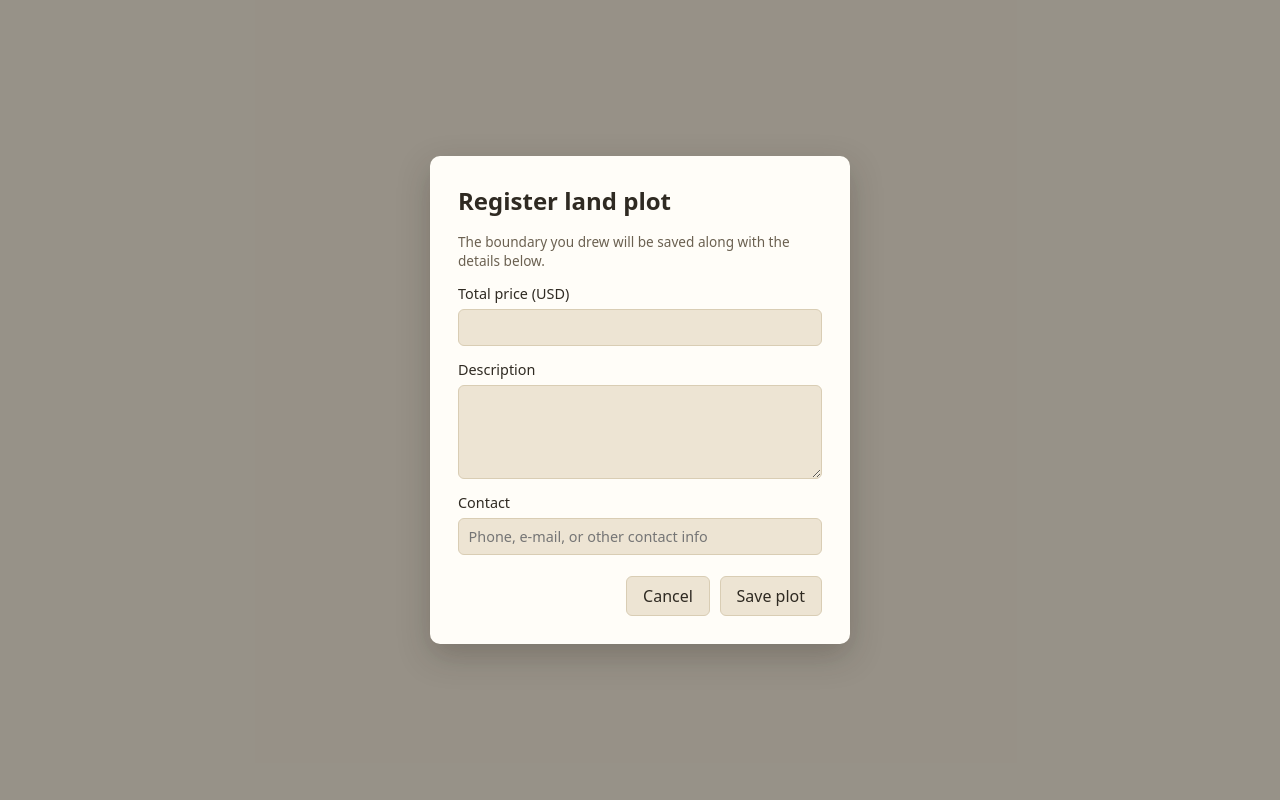
LandPlotForm › rejects a contact that is neither an email nor a phone number
In the number field labelled "Total price (USD)": (640, 327) [458,309,822,346], type "1000"
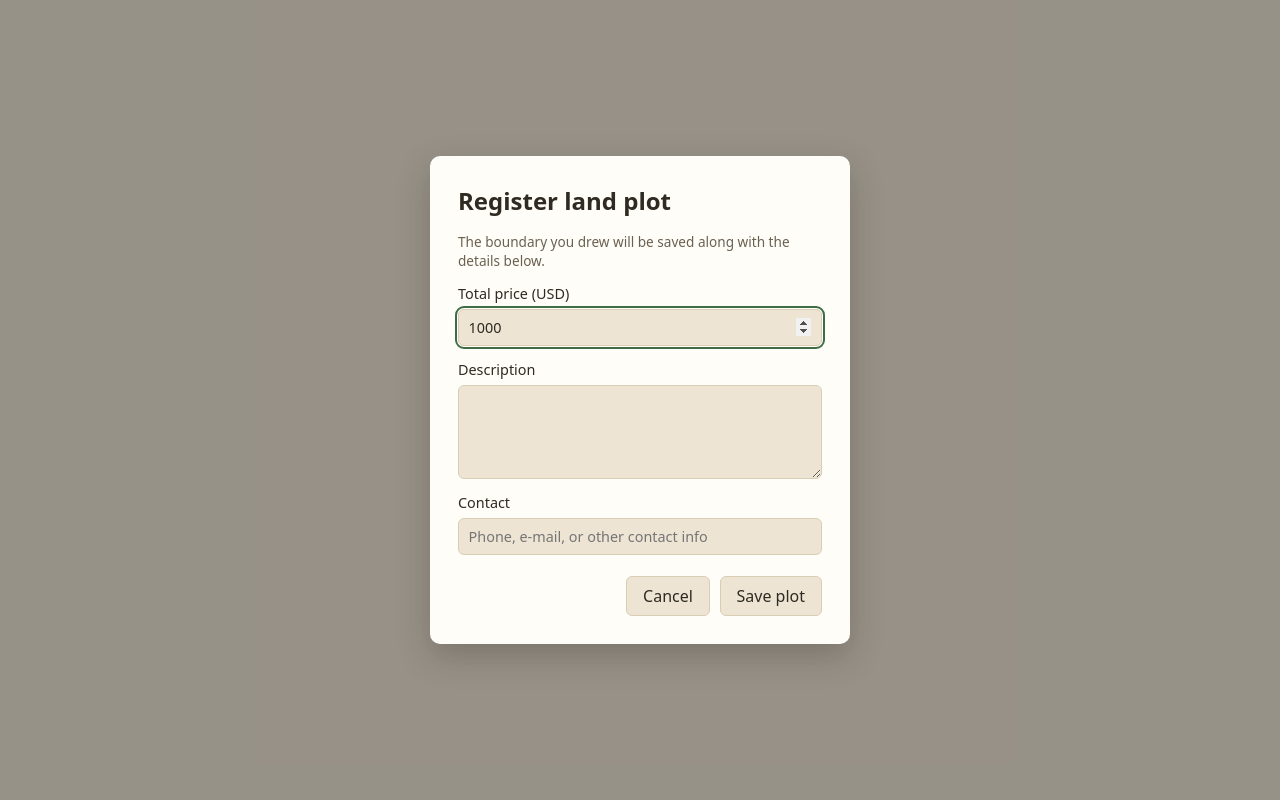
In the text box labelled "Description": (640, 432) [458,385,822,479], type "A perfectly nice plot"
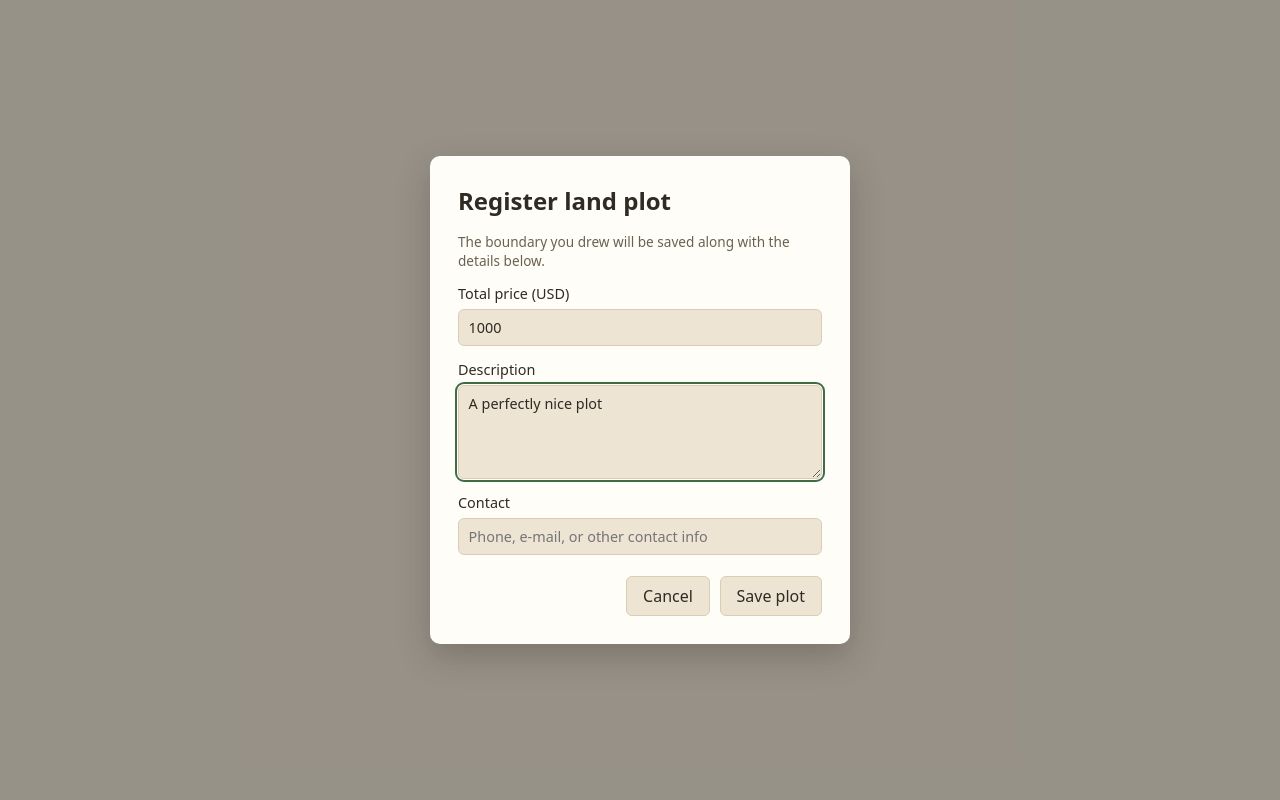
In the field labelled "Contact": (640, 536) [458,518,822,555], type "not-a-contact"
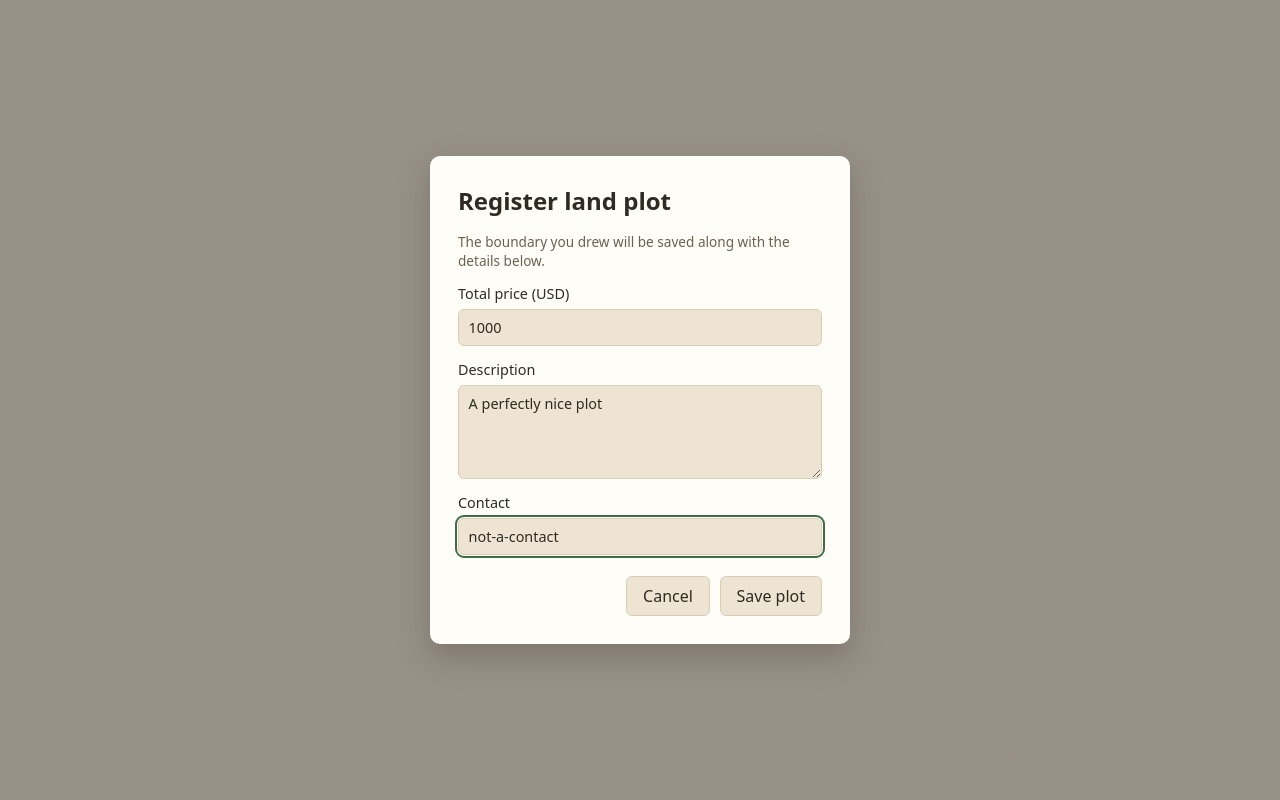
Click the button "Save plot": (771, 596) [720,576,822,616]
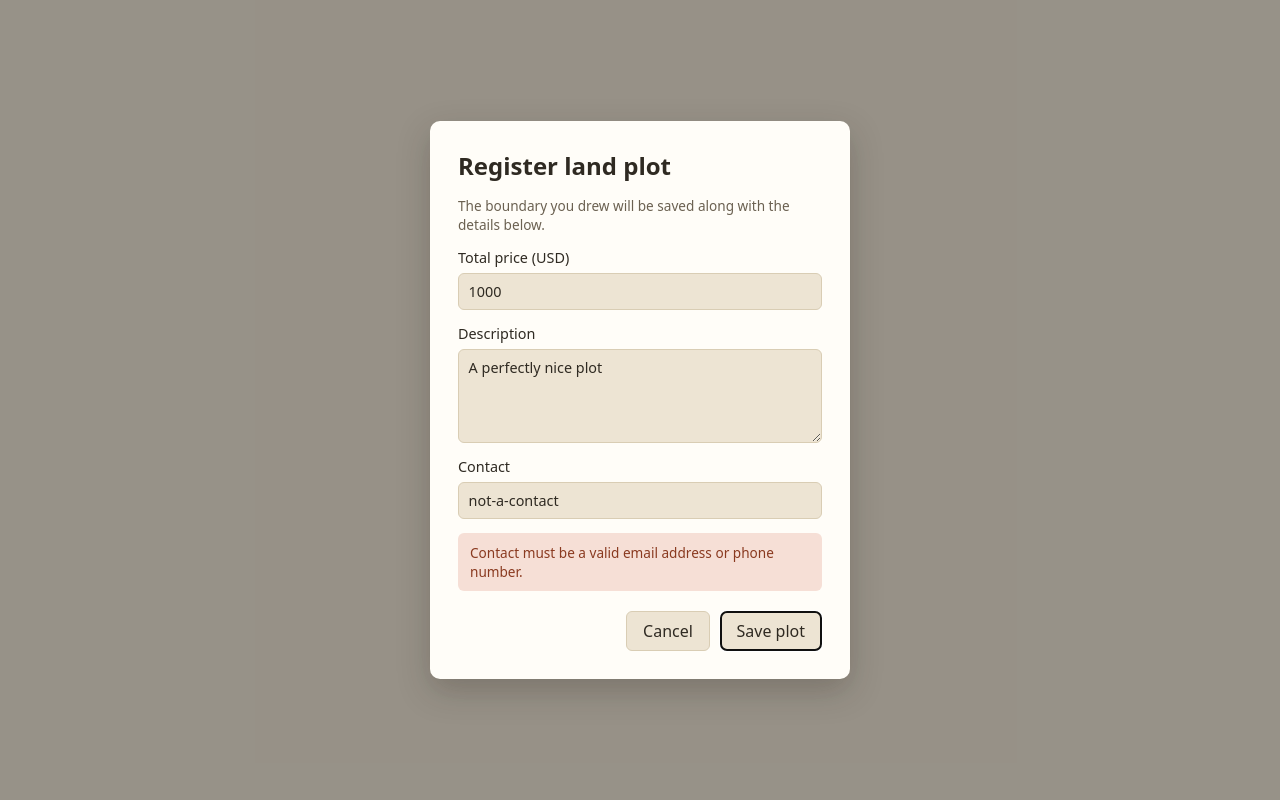
Expected: the text "Contact must be a valid email address or phone number." is shown, [458,533,822,591]
